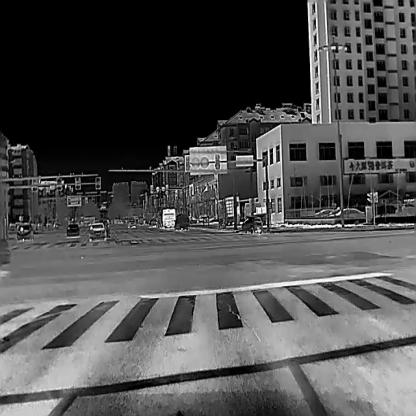bus: (158, 208, 174, 229)
car: (241, 216, 263, 233), (87, 223, 105, 241), (332, 207, 364, 217), (15, 224, 33, 240), (95, 220, 110, 239), (174, 213, 190, 230), (66, 223, 80, 240), (147, 218, 158, 228), (314, 208, 332, 214), (126, 220, 136, 228), (188, 214, 197, 222)
truck: (217, 195, 240, 225), (242, 201, 266, 225), (84, 215, 95, 225)
